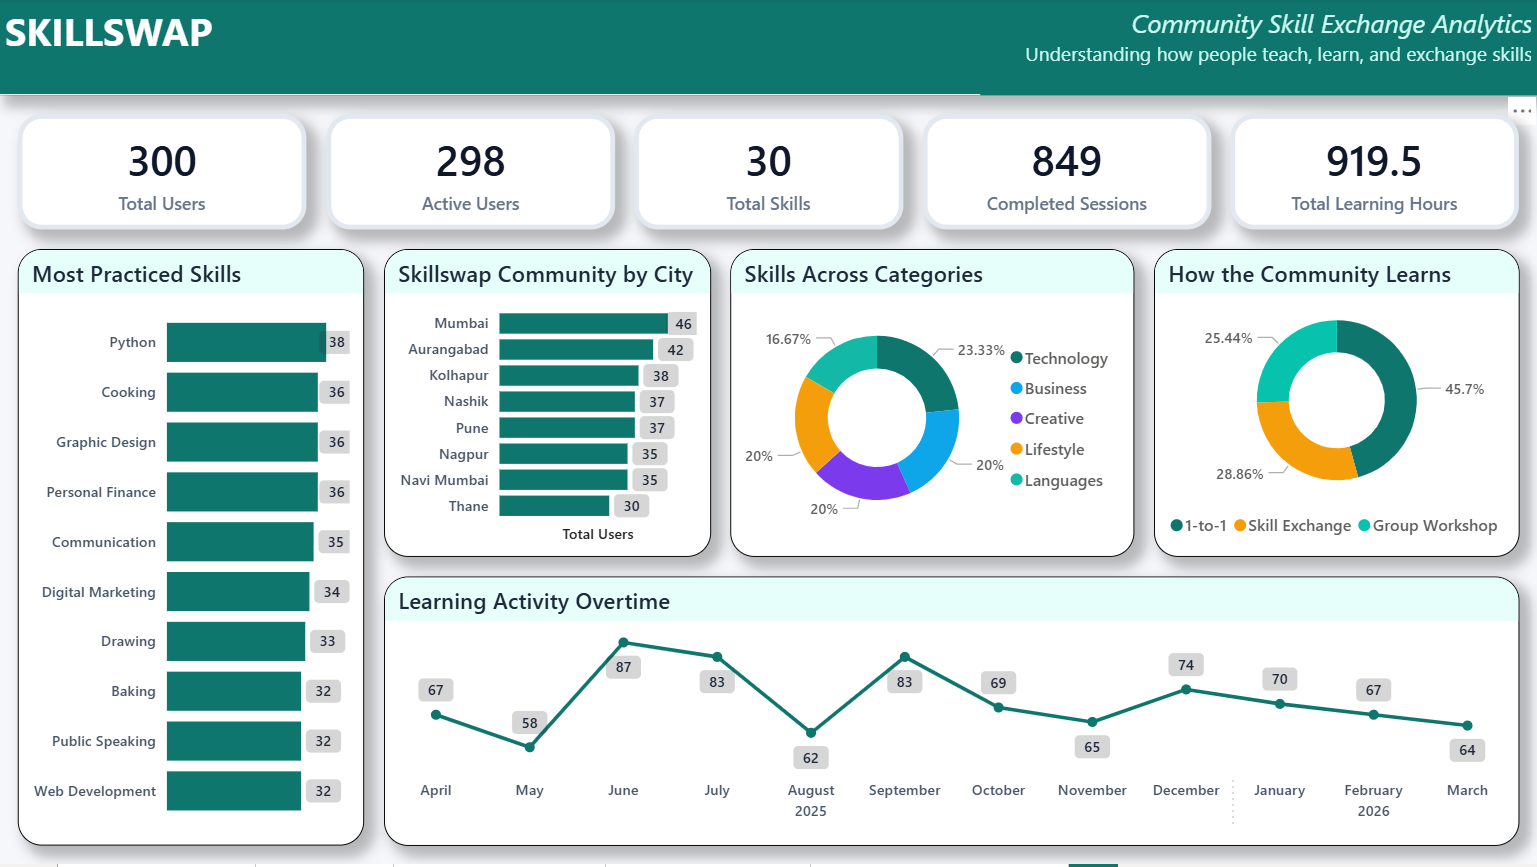

This screenshot's page, from the dashboard's own definition file:
{"tool":"powerbi","page":{"name":"Community Overview","canvas":[1280,720],"ordinal":0},"visuals":[{"type":"textbox","box":[0,0,1280,80],"z":0},{"type":"card","fields":{"Values":["Sessions.Total Users"]},"box":[16,96,240,96],"z":1000},{"type":"card","fields":{"Values":["Sessions.Active Users"]},"box":[272,96,240,96],"z":2000},{"type":"card","fields":{"Values":["Sessions.Total Skills"]},"box":[528,96,224,96],"z":3000},{"type":"card","fields":{"Values":["Sessions.Completed Sessions"]},"box":[768,96,240,96],"z":4000},{"type":"card","fields":{"Values":["Sessions.Total Learning Hours"]},"box":[1024,96,240,96],"z":5000},{"type":"clusteredBarChart","title":"Skillswap Community by City","fields":{"Category":["Users.City"],"Y":["Sessions.Total Users"]},"box":[320,208,272,256],"z":6000},{"type":"donutChart","title":"Skills Across Categories","fields":{"Category":["Skills.Category"],"Y":["Sessions.Total Skills"]},"box":[608,208,336,256],"z":7000},{"type":"lineChart","title":"Learning Activity Overtime","fields":{"Y":["Sessions.Completed Sessions"],"Category":["Calendar.Month_Year.Variation.Date Hierarchy.Year","Calendar.Month_Year.Variation.Date Hierarchy.Month"]},"box":[320,480,944,224],"z":8000},{"type":"clusteredBarChart","title":"Most Practiced Skills","fields":{"Y":["Sessions.Completed Sessions"],"Category":["Skills.Skill_Name"]},"box":[16,208,288,496],"z":9000},{"type":"donutChart","title":"How the Community Learns","fields":{"Category":["Sessions.Session_Type"],"Y":["Sessions.Completed Sessions"]},"box":[960,208,304,256],"z":10000},{"type":"textbox","box":[816,0,464,80],"z":11000}]}

Visuals, with their boxes in screenshot pixels (x1, y1, x2, y2), scaled from the page's 1280x720 canvas onto the 1537x867 screenshot:
textbox: {"x1": 0, "y1": 0, "x2": 1536, "y2": 96}
card - Sessions.Total Users: {"x1": 19, "y1": 116, "x2": 307, "y2": 231}
card - Sessions.Active Users: {"x1": 327, "y1": 116, "x2": 615, "y2": 231}
card - Sessions.Total Skills: {"x1": 634, "y1": 116, "x2": 903, "y2": 231}
card - Sessions.Completed Sessions: {"x1": 922, "y1": 116, "x2": 1210, "y2": 231}
card - Sessions.Total Learning Hours: {"x1": 1230, "y1": 116, "x2": 1518, "y2": 231}
"Skillswap Community by City" clusteredBarChart: {"x1": 384, "y1": 250, "x2": 711, "y2": 559}
"Skills Across Categories" donutChart: {"x1": 730, "y1": 250, "x2": 1134, "y2": 559}
"Learning Activity Overtime" lineChart: {"x1": 384, "y1": 578, "x2": 1518, "y2": 848}
"Most Practiced Skills" clusteredBarChart: {"x1": 19, "y1": 250, "x2": 365, "y2": 848}
"How the Community Learns" donutChart: {"x1": 1153, "y1": 250, "x2": 1518, "y2": 559}
textbox: {"x1": 980, "y1": 0, "x2": 1536, "y2": 96}
